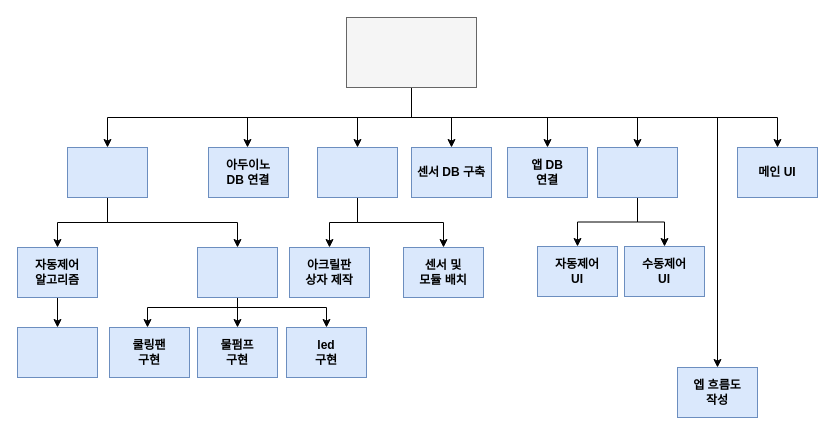
This 835x435 diagram has some shape labels left out. Here are the shapes that lost their labels. From the top down, the centre of each, then its label:
At [411,52]: "1차 스프린트".
At [107,172]: "아두이노 환경 제어".
At [357,172]: "스마트팜 하드웨어".
At [637,172]: "환경 제어 UI".
At [237,272]: "수동제어 알고리즘".
At [57,352]: "온습도 및 쿨링팬 알고리즘".
